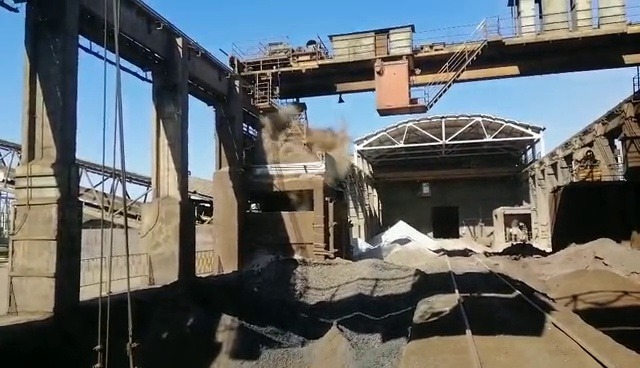dust: (258, 124, 347, 178)
grab: (275, 99, 309, 142)
